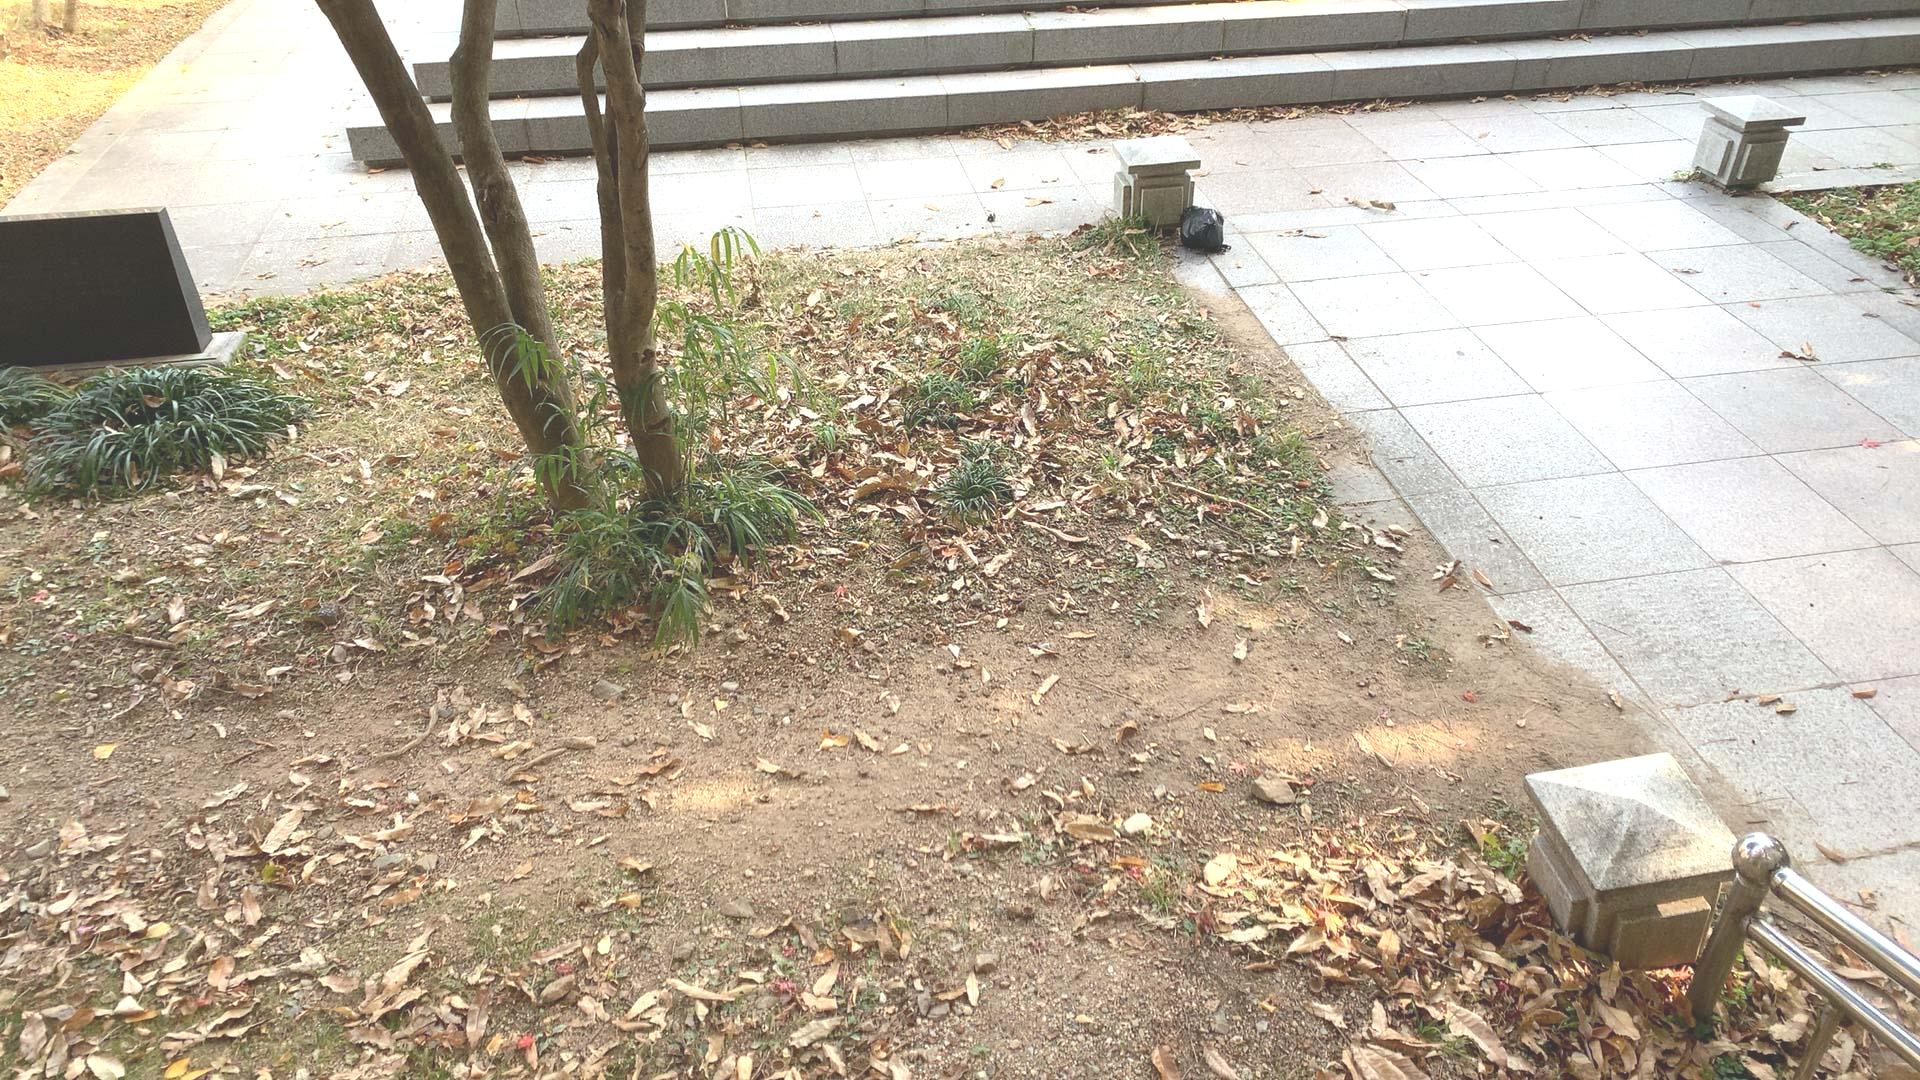black_bag: (1174, 200, 1234, 253)
